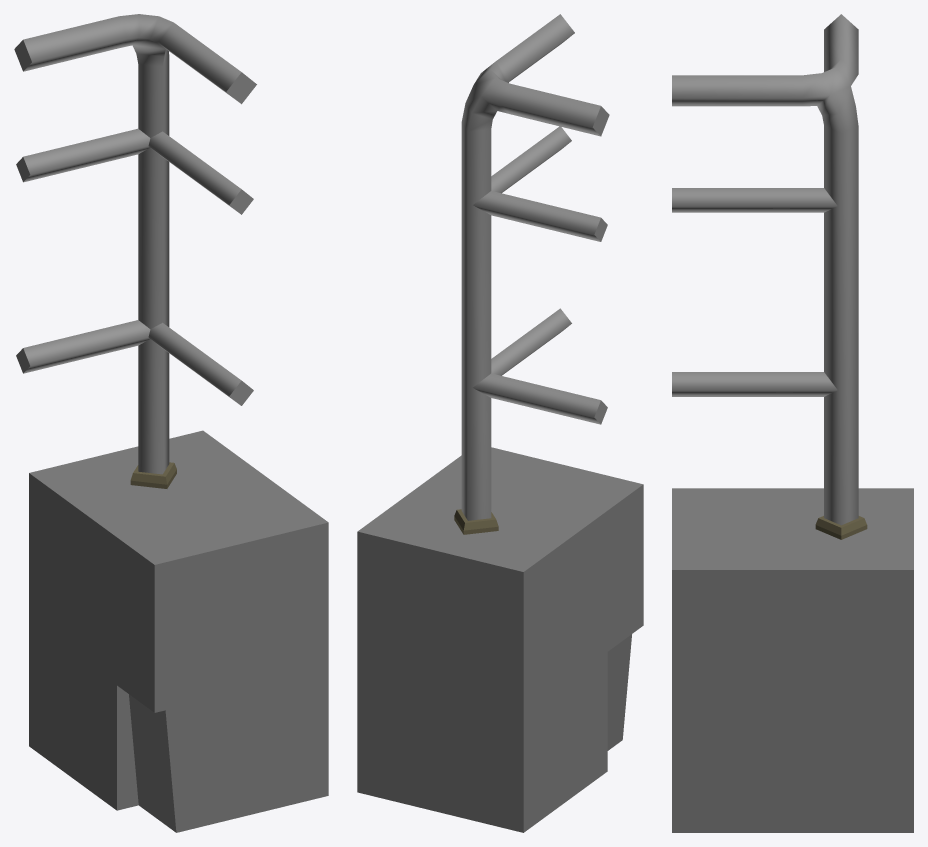
Rendered from SW_ENV_StationStair_Opening_A01_FF.fbx.
3 views of the same model, side by side, from view 1: azimuth 30°, elevation 25°; view 2: azimuth 150°, elevation 25°; view 3: azimuth 270°, elevation 25° (orthographic). The views are drawn at different scales.
Visible parts, largest first — view 1: SW_ENV_StationStair_Opening_A01_FF; view 2: SW_ENV_StationStair_Opening_A01_FF; view 3: SW_ENV_StationStair_Opening_A01_FF.
Part boxes in pixels (box(x1,y1,x2,y2)): SW_ENV_StationStair_Opening_A01_FF: box(14, 14, 328, 832); SW_ENV_StationStair_Opening_A01_FF: box(357, 14, 643, 832); SW_ENV_StationStair_Opening_A01_FF: box(672, 14, 913, 832).
Size of the model in its own units: 0.5 by 1.64 by 0.5.
